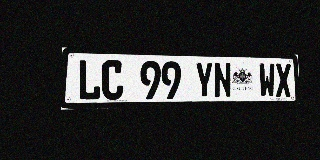9: (140, 61, 161, 99), (161, 61, 181, 99)
C: (101, 60, 123, 100)
L: (78, 59, 101, 100)
N: (214, 62, 232, 98)
W: (259, 63, 275, 97)
X: (275, 63, 291, 97)
Y: (195, 62, 213, 98)
